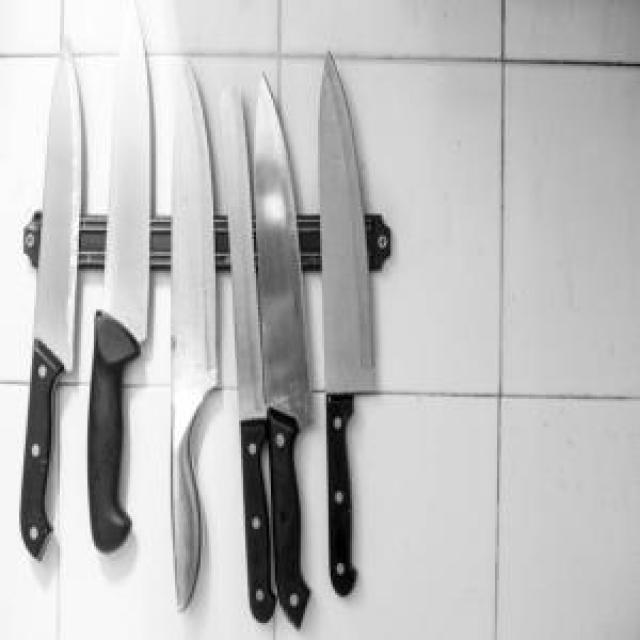knife: (311, 49, 382, 638), (85, 0, 154, 558), (22, 21, 88, 568), (260, 60, 320, 618), (162, 49, 221, 611), (216, 60, 264, 627)
